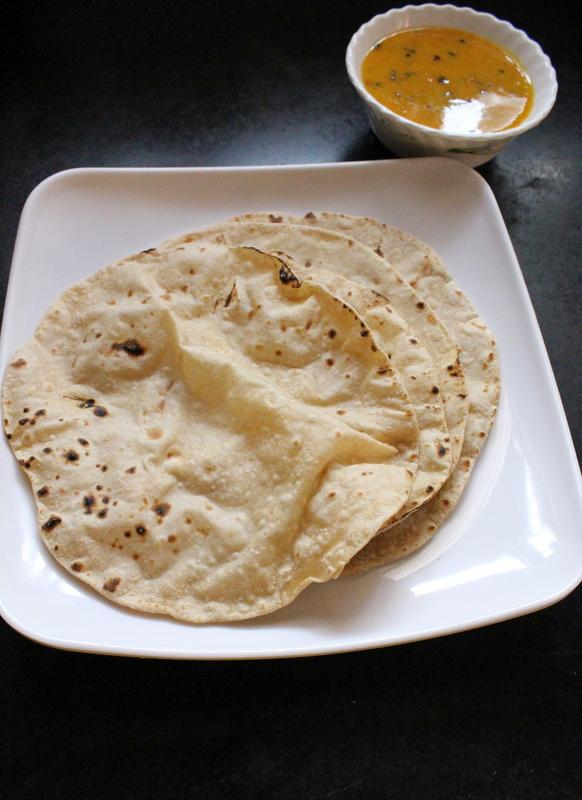roti phulka: (1, 204, 503, 626)
